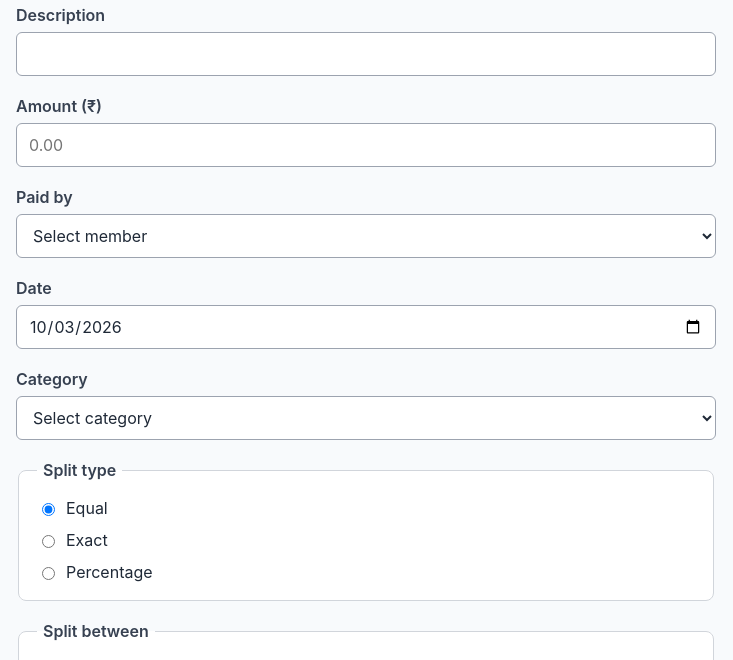
Test: AddExpensePage › shows the equal split calculation for selected members
Type "100" into the field labelled "Amount (₹)".
click(366, 145); type("100")  # box [16,123,716,167]
(page scrolled)
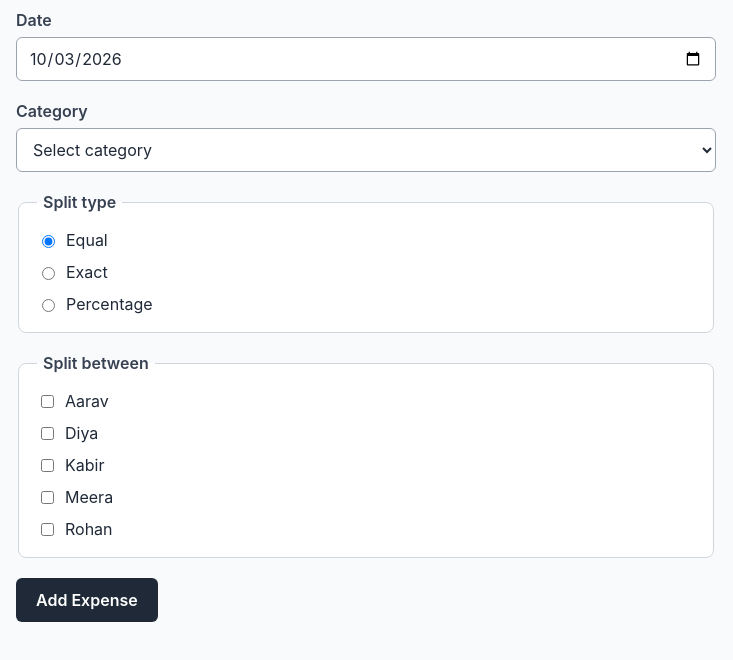
Click the checkbox labelled "Aarav".
click(48, 401)  # box [41,395,54,408]
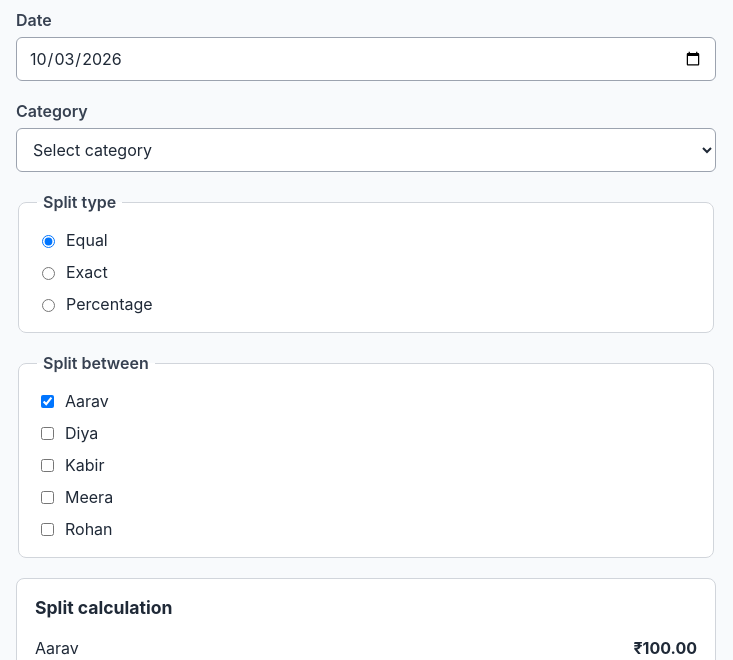
Click the checkbox labelled "Diya".
click(48, 433)  # box [41,427,54,440]
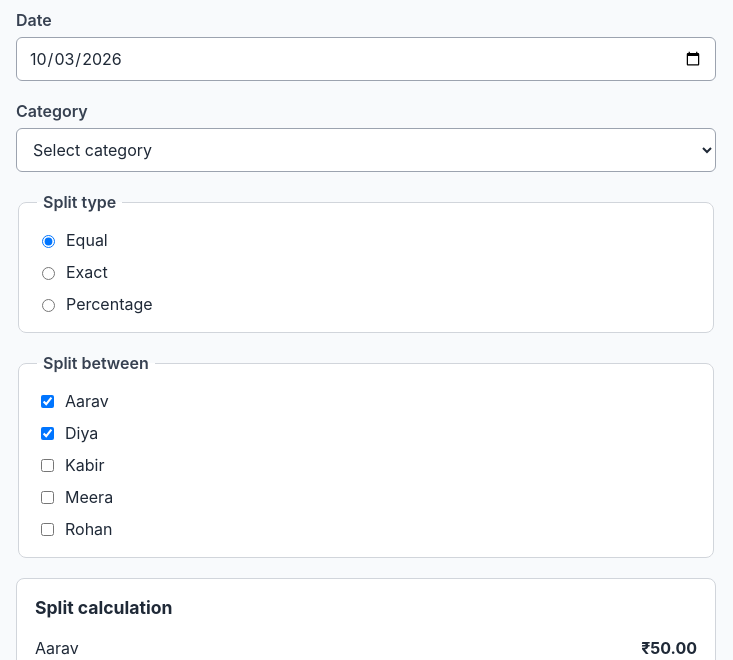
Click the checkbox labelled "Kabir".
click(48, 465)  # box [41,459,54,472]
(page scrolled)
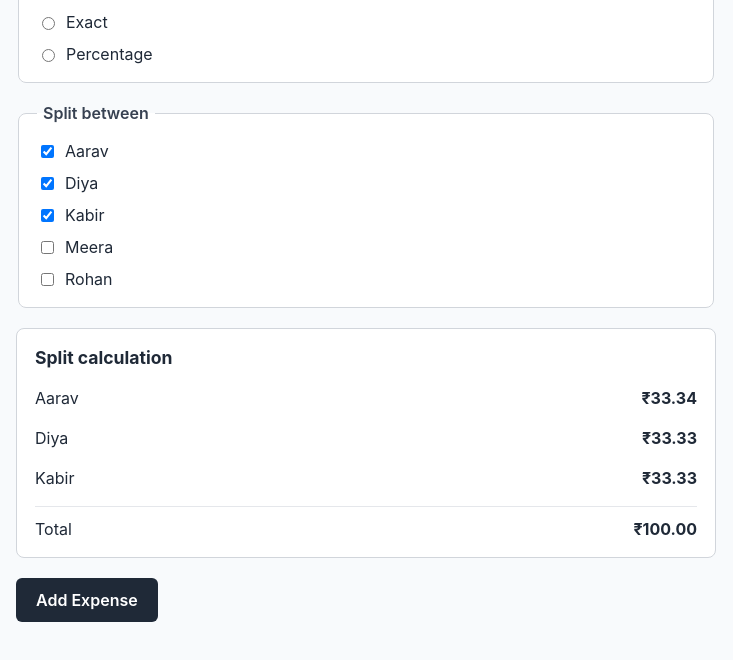
Expected: the heading "Split calculation" is shown, [35,347,172,368]
Expected: the text "₹33.34" is shown, [641,388,697,408]
Expected: the text "₹33.33" is shown 2 times, [642,428,697,448]; [642,468,697,488]
